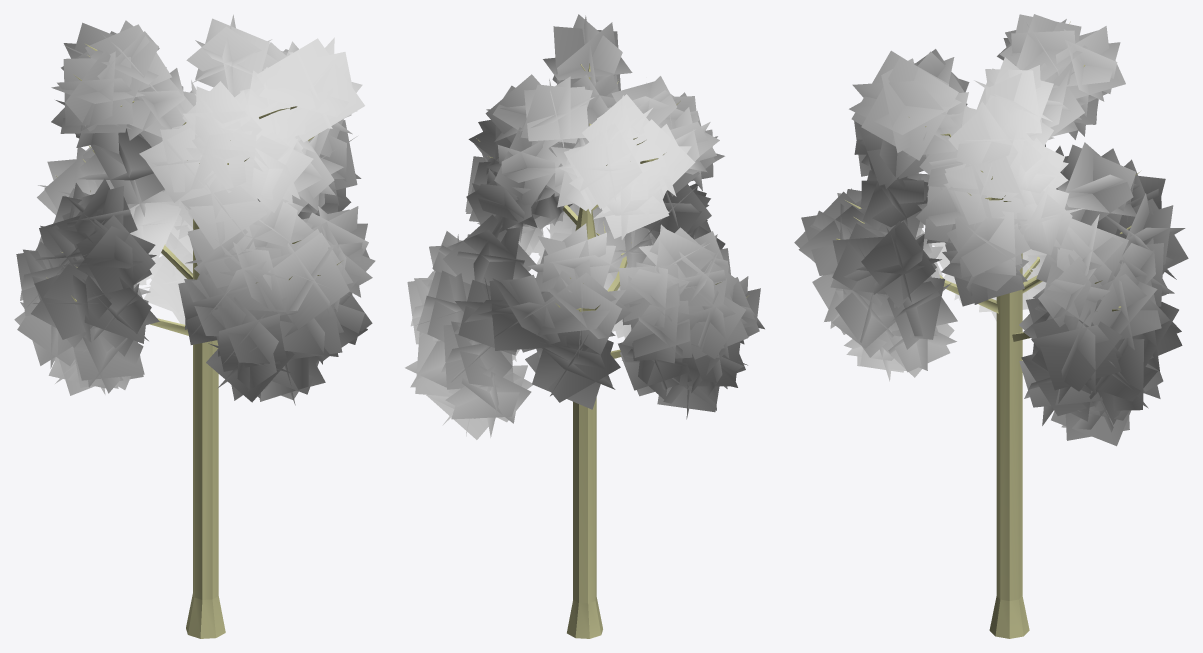
Rendered from TreeDauMid_.fbx.
3 views of the same model, side by side, from view 1: azimuth 30°, elevation 25°; view 2: azimuth 150°, elevation 25°; view 3: azimuth 270°, elevation 25° (orthographic). The views are drawn at different scales.
Visible parts, largest first — view 1: LeaveLOD0, Trunk_LOD0; view 2: LeaveLOD0, Trunk_LOD0; view 3: LeaveLOD0, Trunk_LOD0.
Boxes of the visible parts, <box> form: LeaveLOD0: <box>14,14,375,405</box>; Trunk_LOD0: <box>46,44,341,638</box>; LeaveLOD0: <box>405,14,764,439</box>; Trunk_LOD0: <box>476,63,748,638</box>; LeaveLOD0: <box>794,14,1188,446</box>; Trunk_LOD0: <box>836,21,1140,638</box>.
Size of what is drawn, in the model's own units: 3219 by 5537 by 3298.
